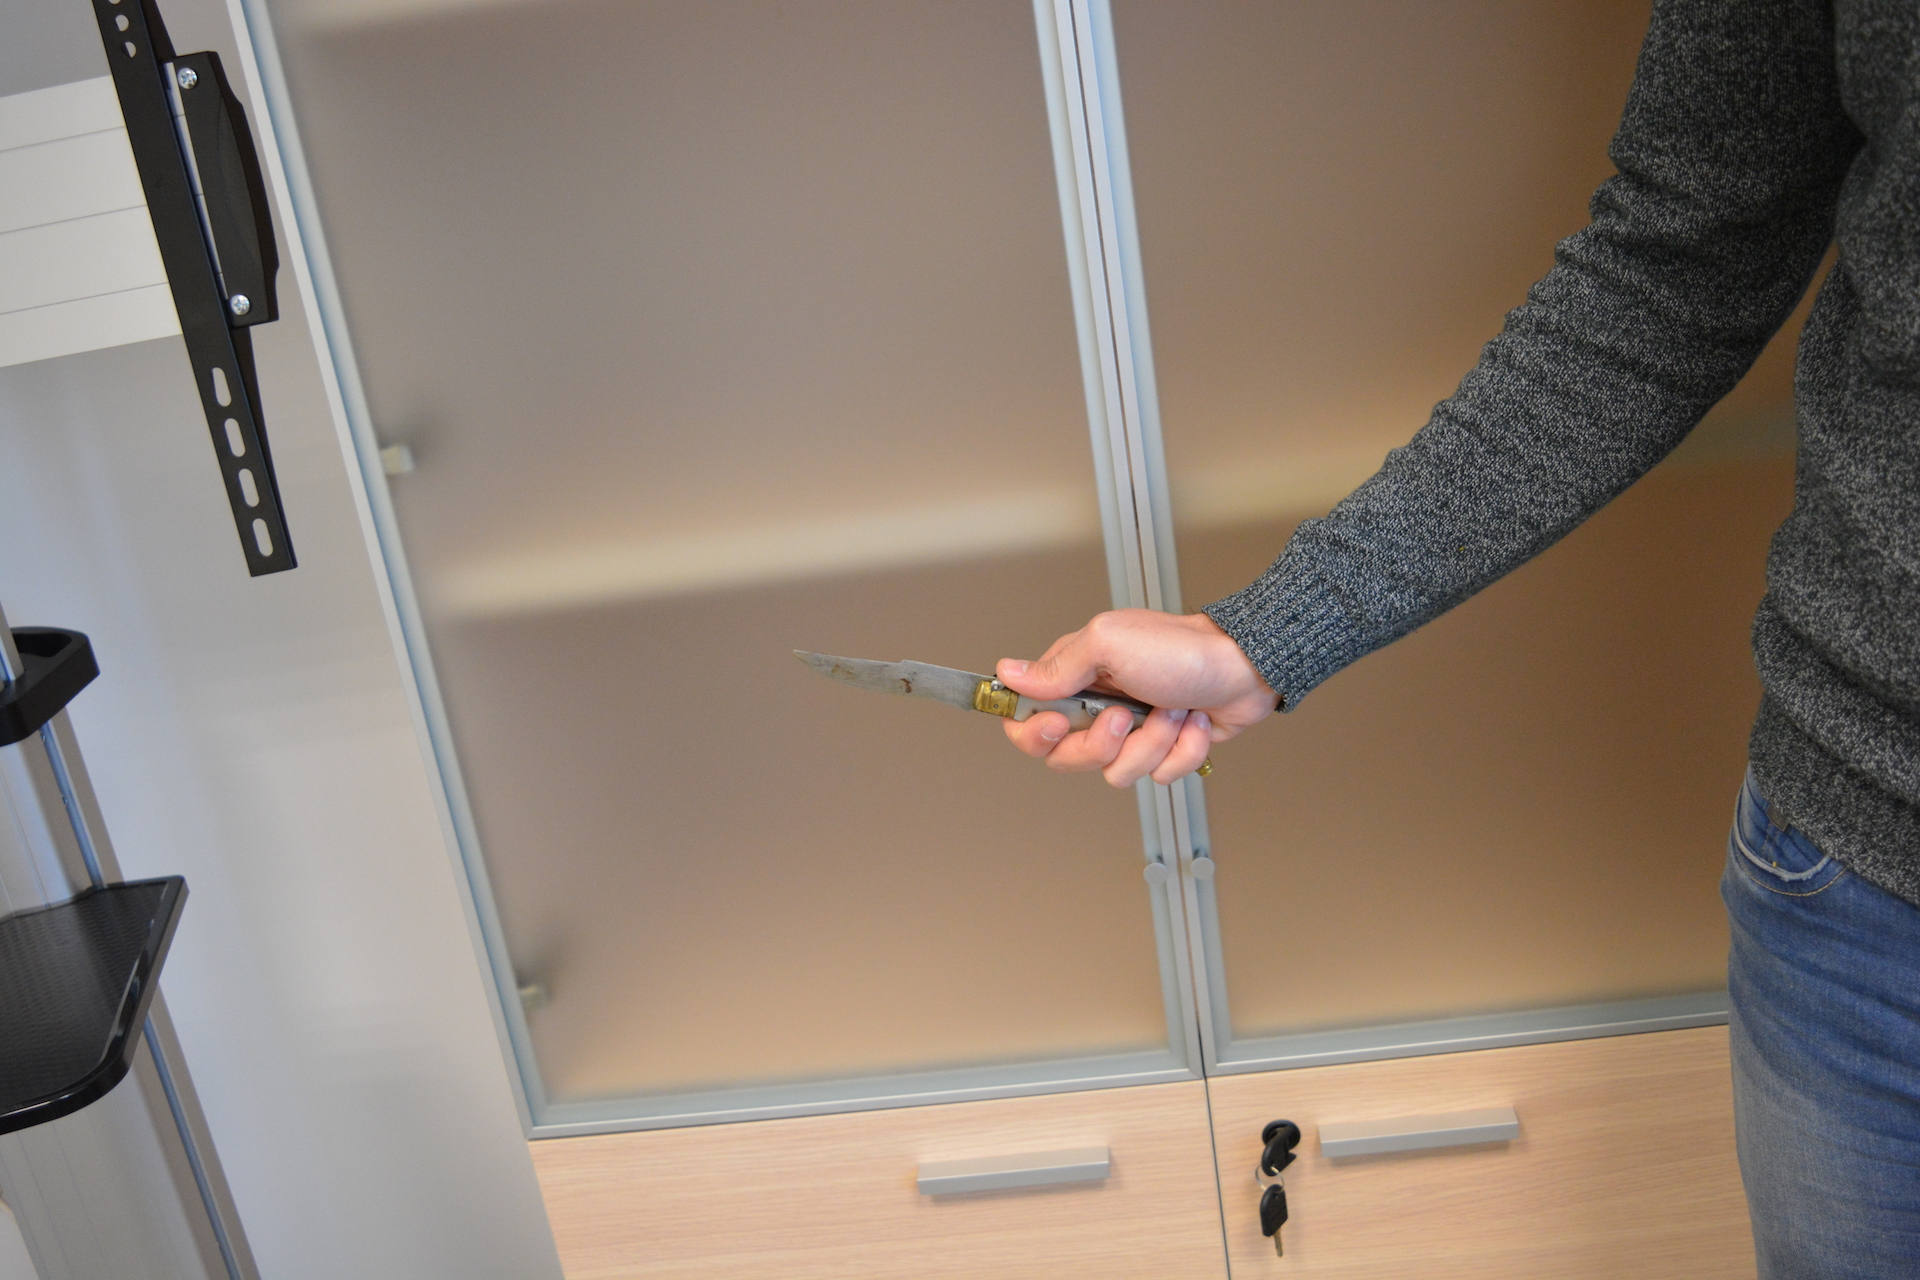knife: (774, 637, 1229, 793)
